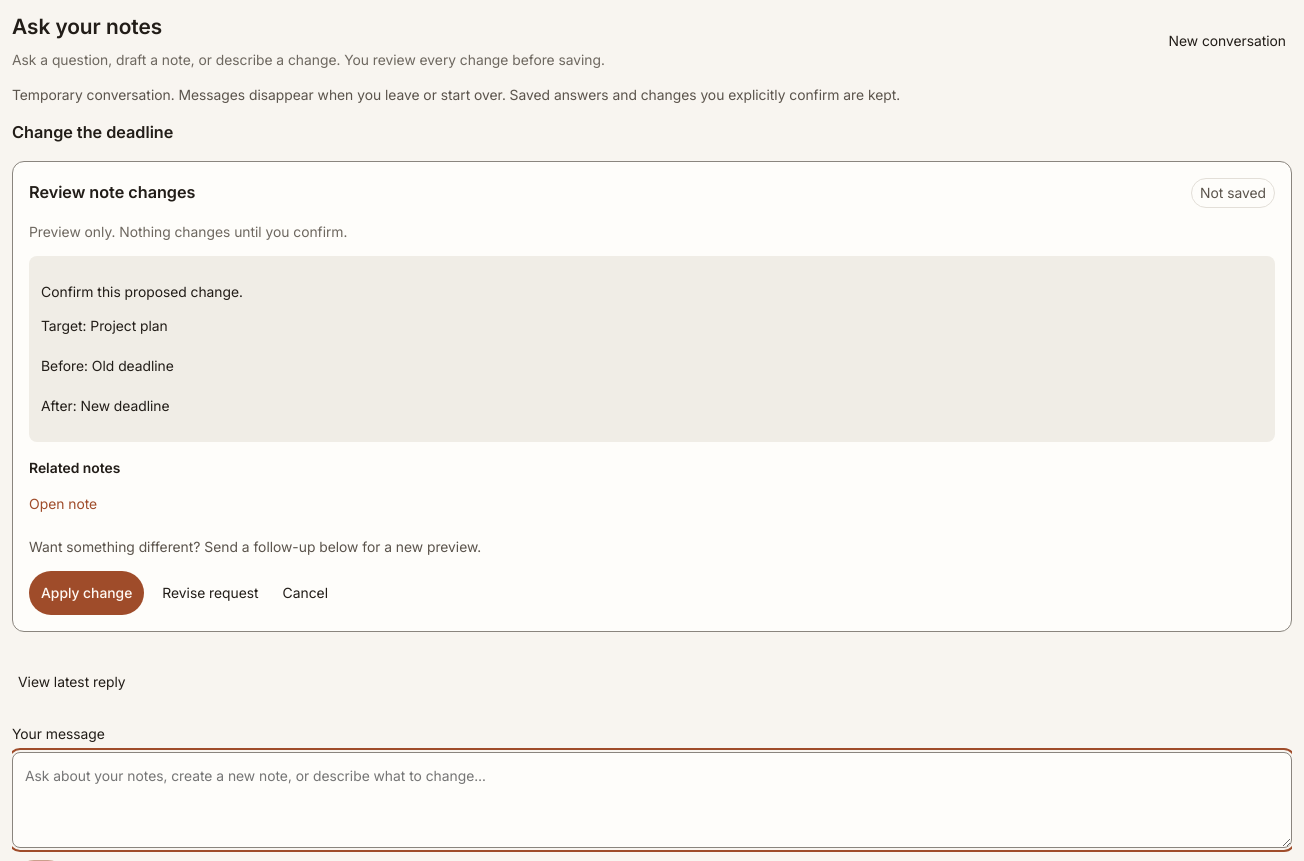
Scenario: cancels a preview locally without a write or Undo affordance
Click the button "Cancel".
click(305, 593)  # box x1=277 y1=571 x2=334 y2=615
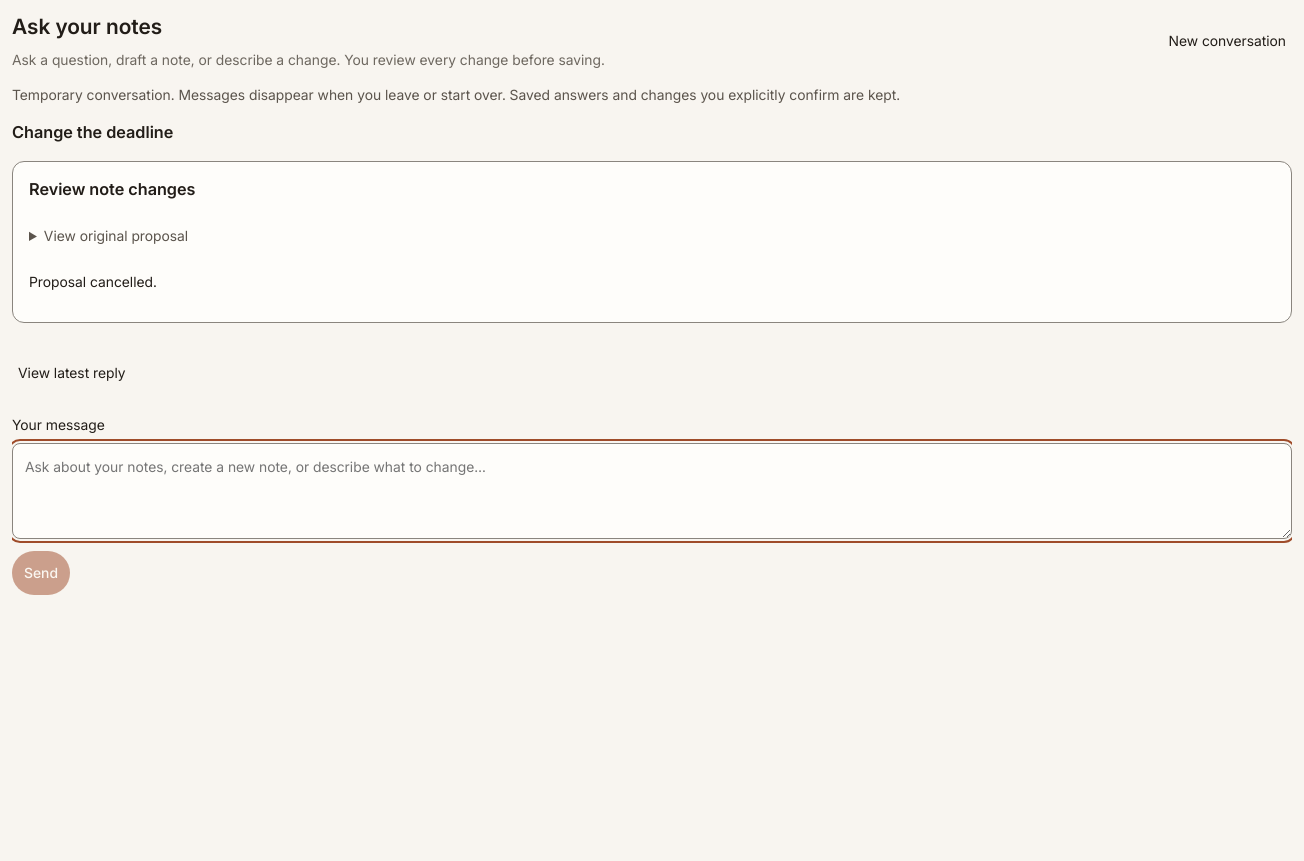
expect the message reads "Proposal cancelled.": met, box x1=29 y1=272 x2=157 y2=290
expect the button "Apply change" is gone: met
